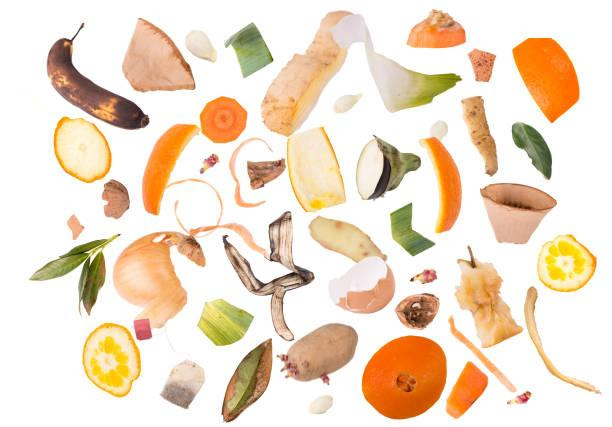organic: (262, 11, 366, 135), (47, 24, 148, 128), (113, 231, 204, 326), (524, 286, 599, 392), (362, 335, 446, 417), (456, 246, 521, 345), (366, 43, 460, 111), (513, 38, 578, 121), (122, 18, 194, 90), (286, 126, 345, 210), (142, 124, 196, 213), (278, 322, 357, 382), (481, 183, 556, 242), (82, 322, 140, 395), (222, 338, 271, 420), (356, 136, 420, 198), (30, 234, 118, 279), (422, 137, 461, 232), (54, 117, 110, 181), (329, 256, 394, 311), (309, 216, 385, 260), (538, 234, 595, 290), (461, 96, 496, 174), (225, 23, 272, 76), (198, 298, 252, 344), (77, 239, 110, 312), (446, 361, 487, 416), (407, 9, 465, 47), (390, 203, 433, 254), (512, 122, 551, 177), (200, 96, 246, 141), (161, 359, 204, 406), (481, 183, 555, 209), (396, 292, 438, 327), (269, 211, 294, 269), (271, 284, 293, 339), (247, 159, 284, 188), (102, 179, 129, 217), (186, 30, 216, 61), (468, 49, 495, 81), (333, 94, 361, 112), (308, 393, 332, 412), (410, 268, 436, 282)
